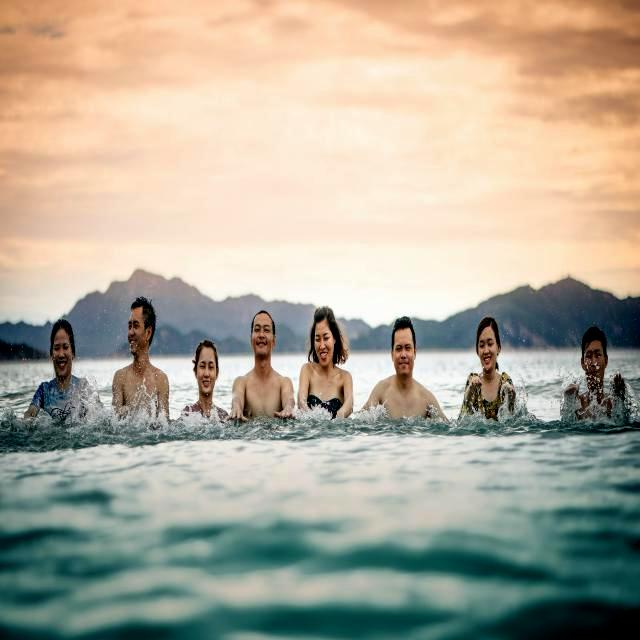no_head_wear: (310, 306, 340, 336), (192, 339, 219, 369), (131, 296, 156, 328), (581, 326, 607, 354), (476, 316, 500, 345), (50, 318, 74, 347), (391, 316, 415, 341), (251, 310, 275, 333)
person: (362, 316, 447, 420), (24, 319, 100, 421), (230, 311, 295, 423), (112, 297, 169, 419), (297, 306, 353, 419), (459, 317, 519, 420), (561, 327, 627, 420), (181, 340, 228, 420)
